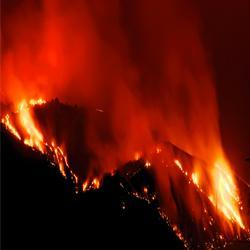fire: (213, 157, 247, 220), (6, 104, 48, 148)
